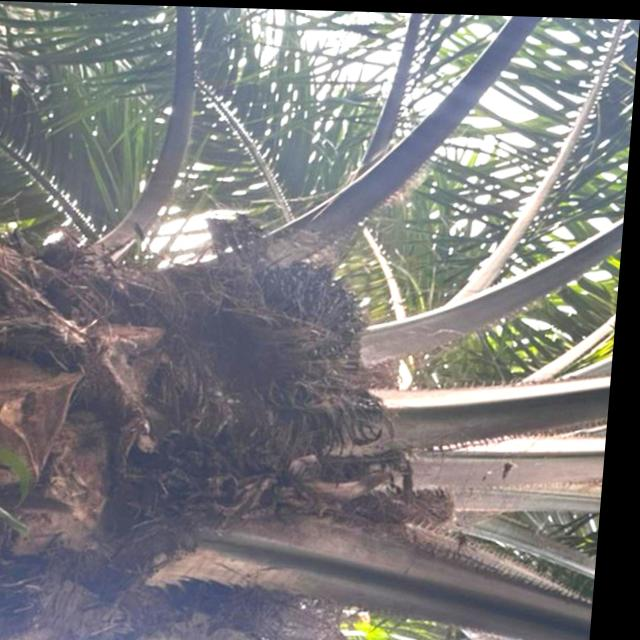unripe: (219, 239, 395, 403)
